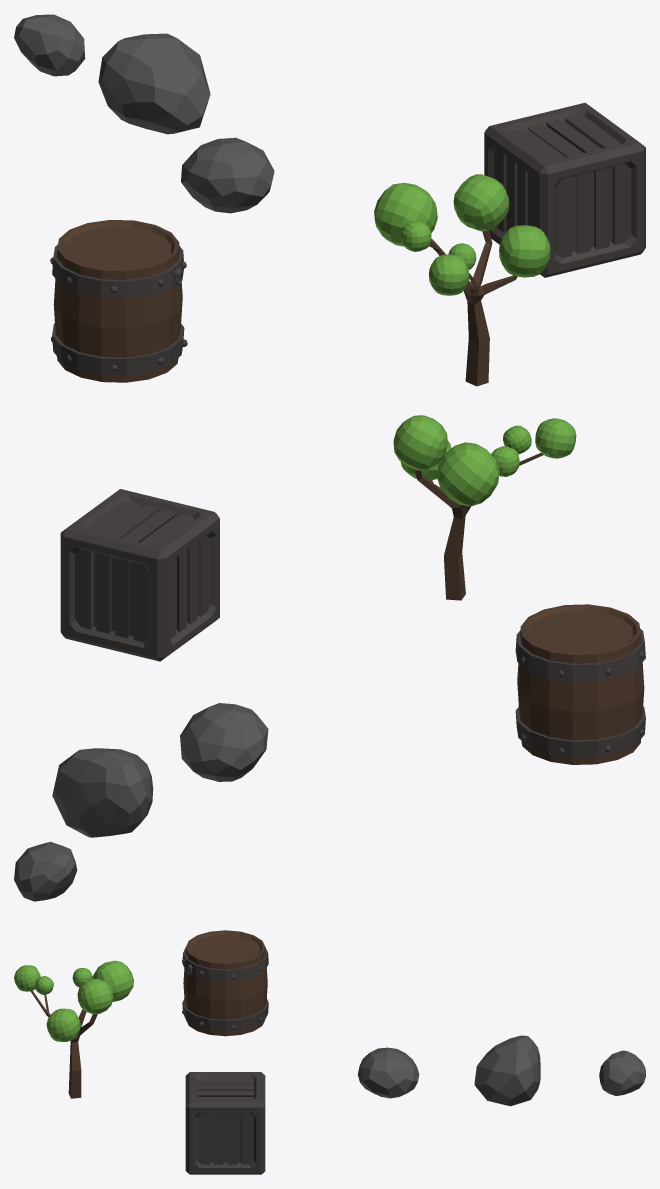
Rendered from Assets_LP.glb.
The picture shows the model from 3 angles, top to bottom: view 1: azimuth 30°, elevation 25°; view 2: azimuth 150°, elevation 25°; view 3: azimuth 270°, elevation 25°; orthographic projection. The views are drawn at different scales.
Parts seen in each view (by area): view 1: Caisse, Baril, Arbre, Rocher.002, Rocher, Rocher.001; view 2: Caisse, Baril, Arbre, Rocher.002, Rocher, Rocher.001; view 3: Caisse, Baril, Arbre, Rocher.002, Rocher, Rocher.001.
Boxes of the visible parts, left/top/right/bottom form: Caisse: left=484, top=102, right=645, bottom=277; Baril: left=50, top=220, right=187, bottom=382; Arbre: left=374, top=174, right=550, bottom=386; Rocher.002: left=98, top=33, right=210, bottom=134; Rocher: left=181, top=137, right=274, bottom=213; Rocher.001: left=14, top=14, right=85, bottom=76; Caisse: left=60, top=489, right=219, bottom=661; Baril: left=515, top=604, right=645, bottom=764; Arbre: left=393, top=415, right=576, bottom=600; Rocher.002: left=52, top=748, right=153, bottom=837; Rocher: left=180, top=703, right=268, bottom=781; Rocher.001: left=14, top=841, right=77, bottom=901; Caisse: left=185, top=1072, right=265, bottom=1174; Baril: left=182, top=930, right=268, bottom=1036; Arbre: left=14, top=960, right=133, bottom=1098; Rocher.002: left=474, top=1035, right=540, bottom=1106; Rocher: left=357, top=1047, right=419, bottom=1098; Rocher.001: left=599, top=1050, right=645, bottom=1095.
Bounding box in the file's own units: 10.48 × 3.41 × 15.86.
Materials: 4 (4 with a texture image).
